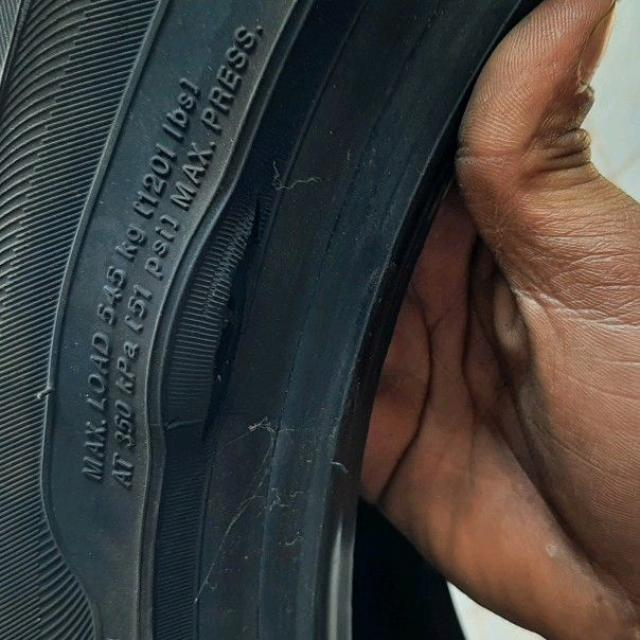Bulge: (74, 152, 238, 472)
